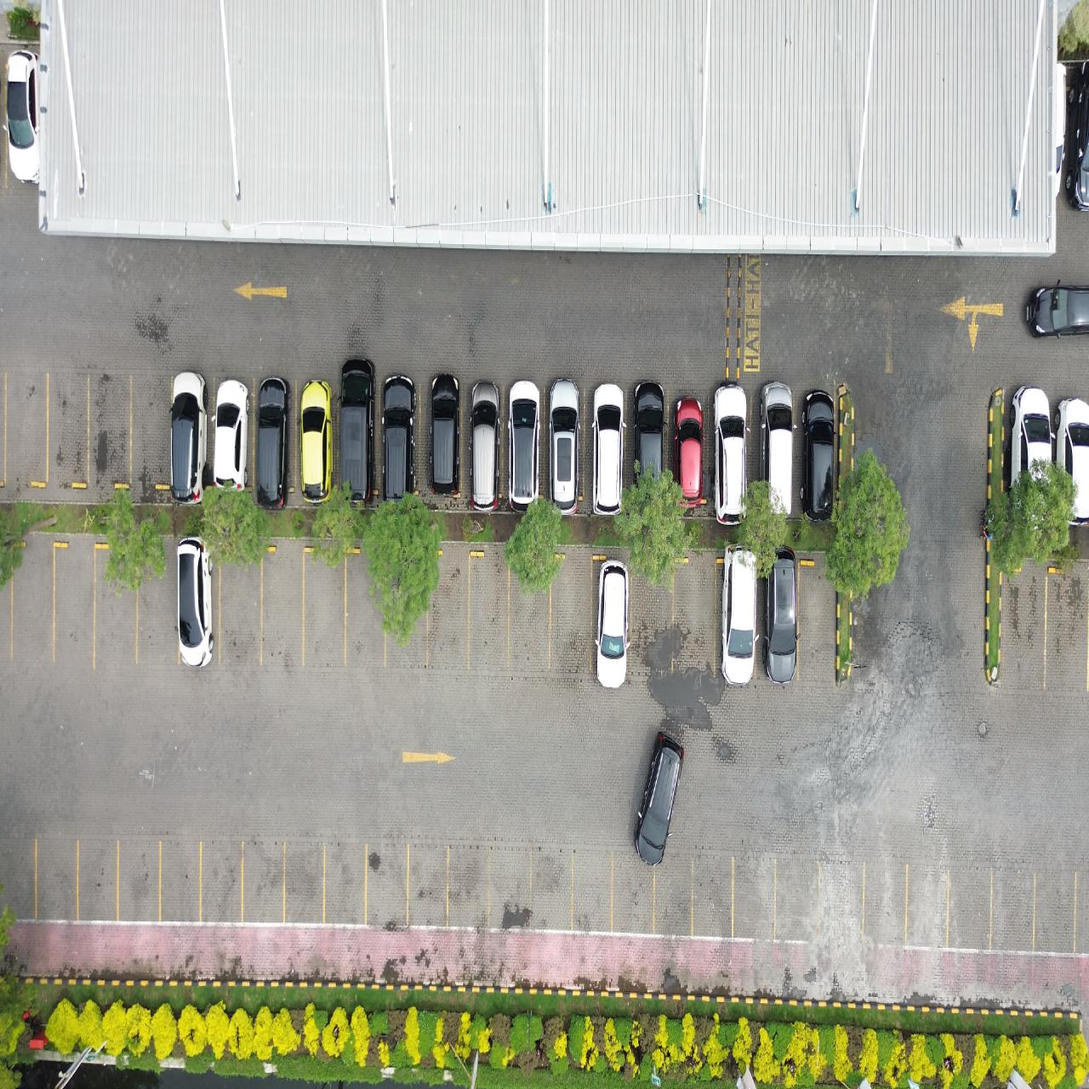cars: (180, 540, 217, 681), (718, 555, 754, 690), (594, 556, 629, 693), (626, 387, 665, 509), (173, 373, 211, 496), (761, 556, 796, 688), (796, 389, 832, 516), (753, 391, 791, 509), (587, 387, 623, 509), (256, 379, 293, 496), (710, 388, 746, 508), (380, 379, 417, 494), (546, 386, 582, 504), (671, 386, 706, 506), (465, 387, 502, 500), (216, 376, 251, 494), (340, 380, 376, 494), (423, 385, 461, 492), (298, 379, 333, 495), (506, 387, 541, 501)
empty: (13, 537, 54, 690), (387, 544, 428, 694), (138, 538, 178, 689), (96, 538, 136, 689), (221, 541, 262, 688), (263, 542, 304, 687), (305, 544, 346, 688), (631, 554, 673, 694), (430, 546, 469, 695), (90, 362, 131, 502), (675, 554, 716, 694), (348, 542, 386, 691), (7, 362, 48, 500), (56, 538, 93, 690), (553, 552, 592, 694), (49, 361, 88, 502), (511, 553, 550, 693), (133, 362, 171, 502), (799, 555, 837, 690), (472, 551, 508, 693)
